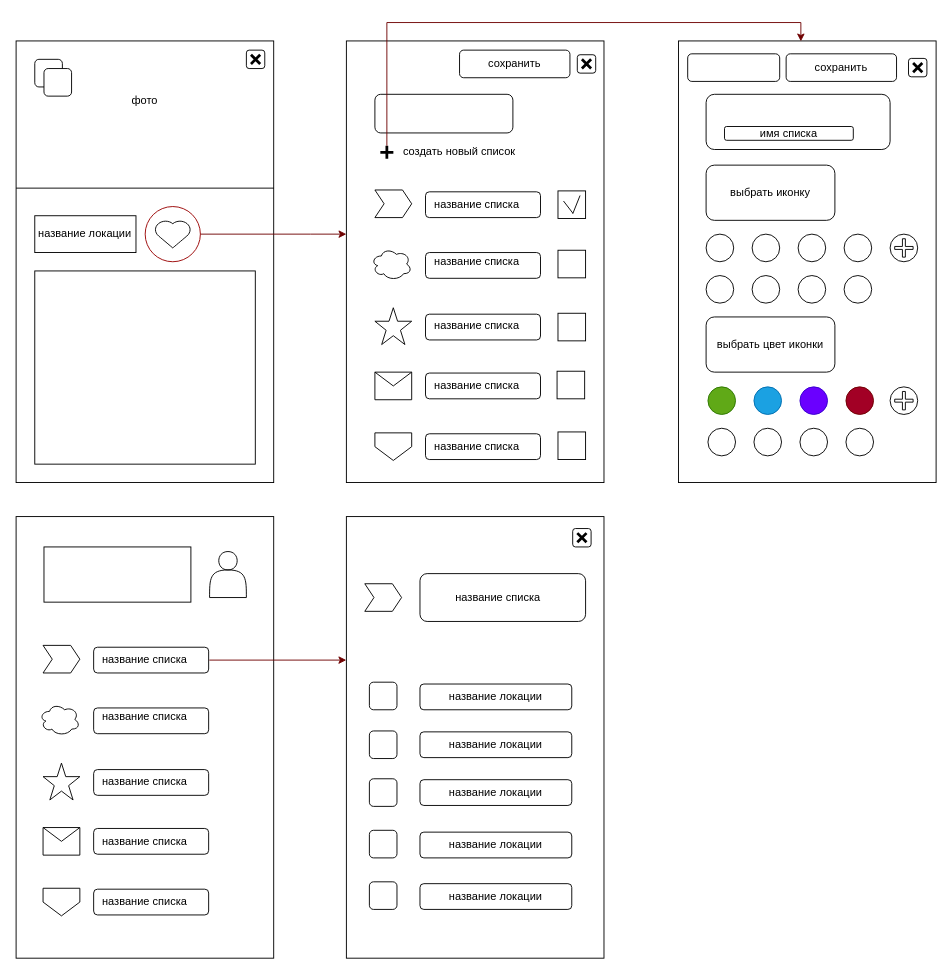
Some shapes in this 952 by 974 pixel diagram are drawn without their labels. Each missing label, with the box of its shape:
мои закладки: (43, 546, 191, 602)
назад: (687, 53, 780, 81)
описание: (34, 270, 255, 464)
создать новый список:: (705, 93, 890, 150)
Сохранить в список: (374, 93, 513, 133)
